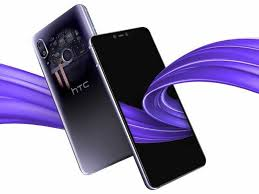htc: (29, 1, 137, 179)
